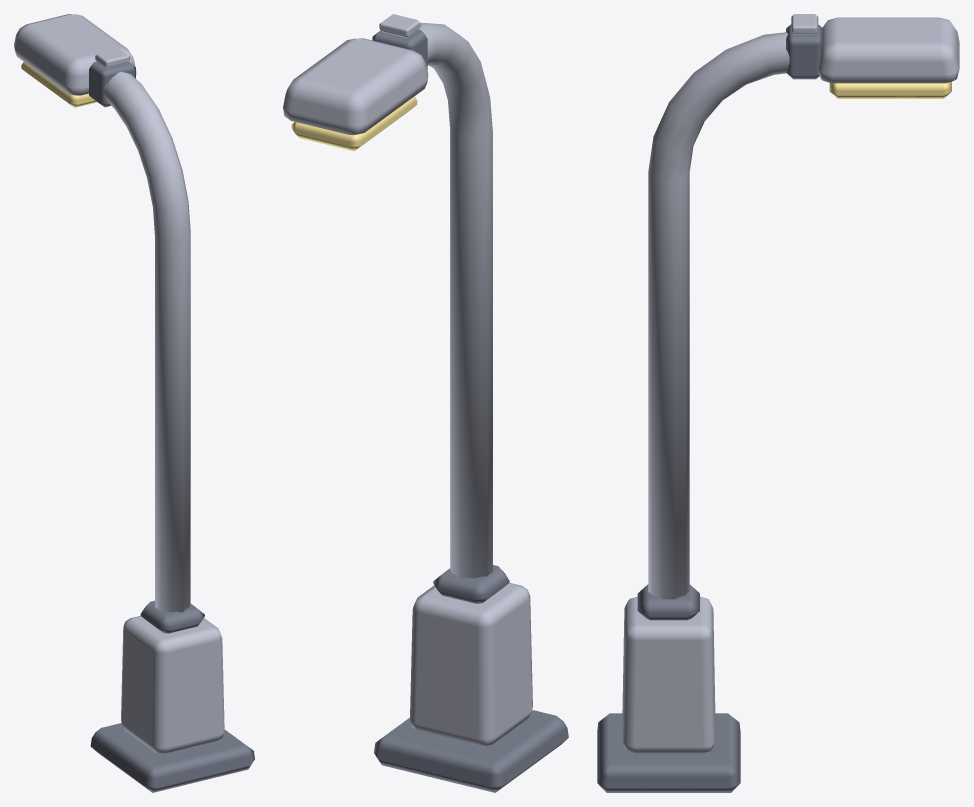
File: Lamp.glb
The picture shows the model from 3 angles, left to right: view 1: azimuth 30°, elevation 25°; view 2: azimuth 150°, elevation 25°; view 3: azimuth 270°, elevation 25°; orthographic projection. The views are drawn at different scales.
Visible parts, largest first — view 1: M_Lamp_PlaneFlap, M_Lamp_Metal, M_Lamp_Light; view 2: M_Lamp_PlaneFlap, M_Lamp_Metal, M_Lamp_Light; view 3: M_Lamp_PlaneFlap, M_Lamp_Metal, M_Lamp_Light.
Part boxes in pixels (x1,y1,x2,y2): M_Lamp_PlaneFlap: (14,14,224,753); M_Lamp_Metal: (89,61,254,792); M_Lamp_Light: (21,62,97,107); M_Lamp_PlaneFlap: (283,14,532,746); M_Lamp_Metal: (372,29,568,792); M_Lamp_Light: (291,96,417,151); M_Lamp_PlaneFlap: (622,14,959,753); M_Lamp_Metal: (597,24,823,792); M_Lamp_Light: (829,81,951,98).
Size of the model in its own units: 1.38 by 7.95 by 3.5.
